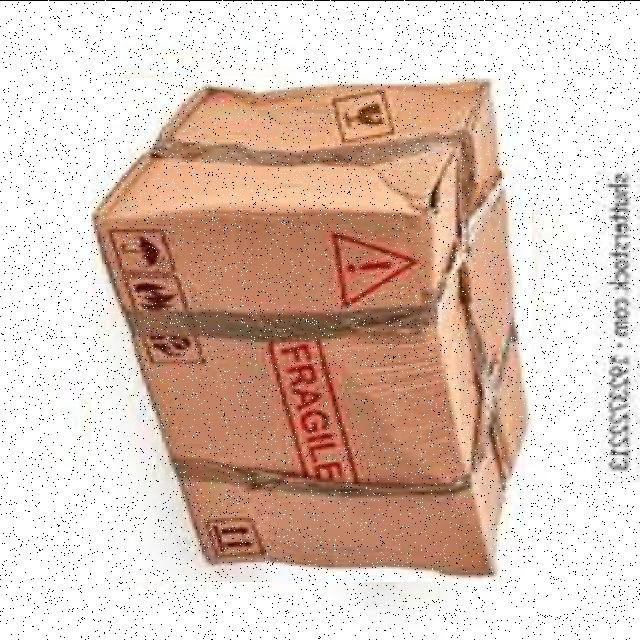defect: (91, 77, 532, 581)
